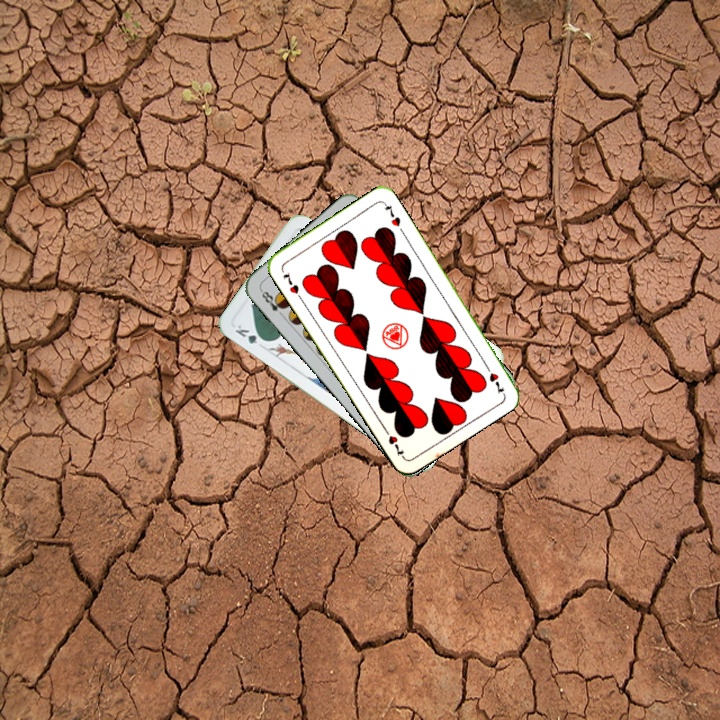E8: (256, 285, 288, 320)
GK: (231, 321, 269, 347)
H7: (481, 359, 507, 396), (279, 268, 305, 302)
